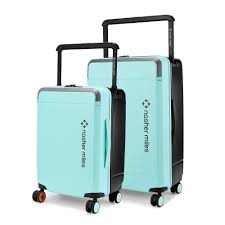suitcase: (84, 12, 186, 208), (29, 42, 128, 213)
